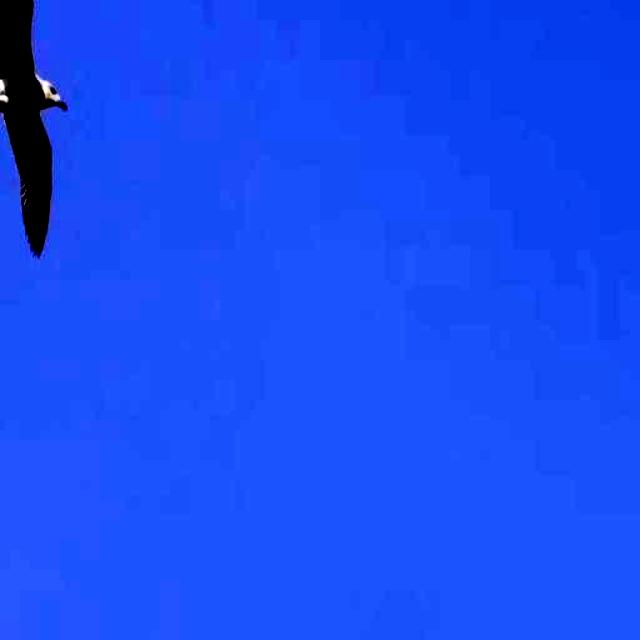airplane: (0, 0, 100, 270)
